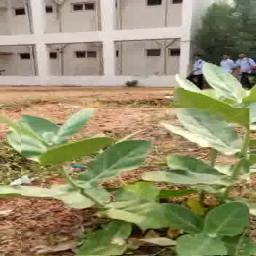Calotropis: (21, 108, 250, 256), (185, 64, 243, 118)
